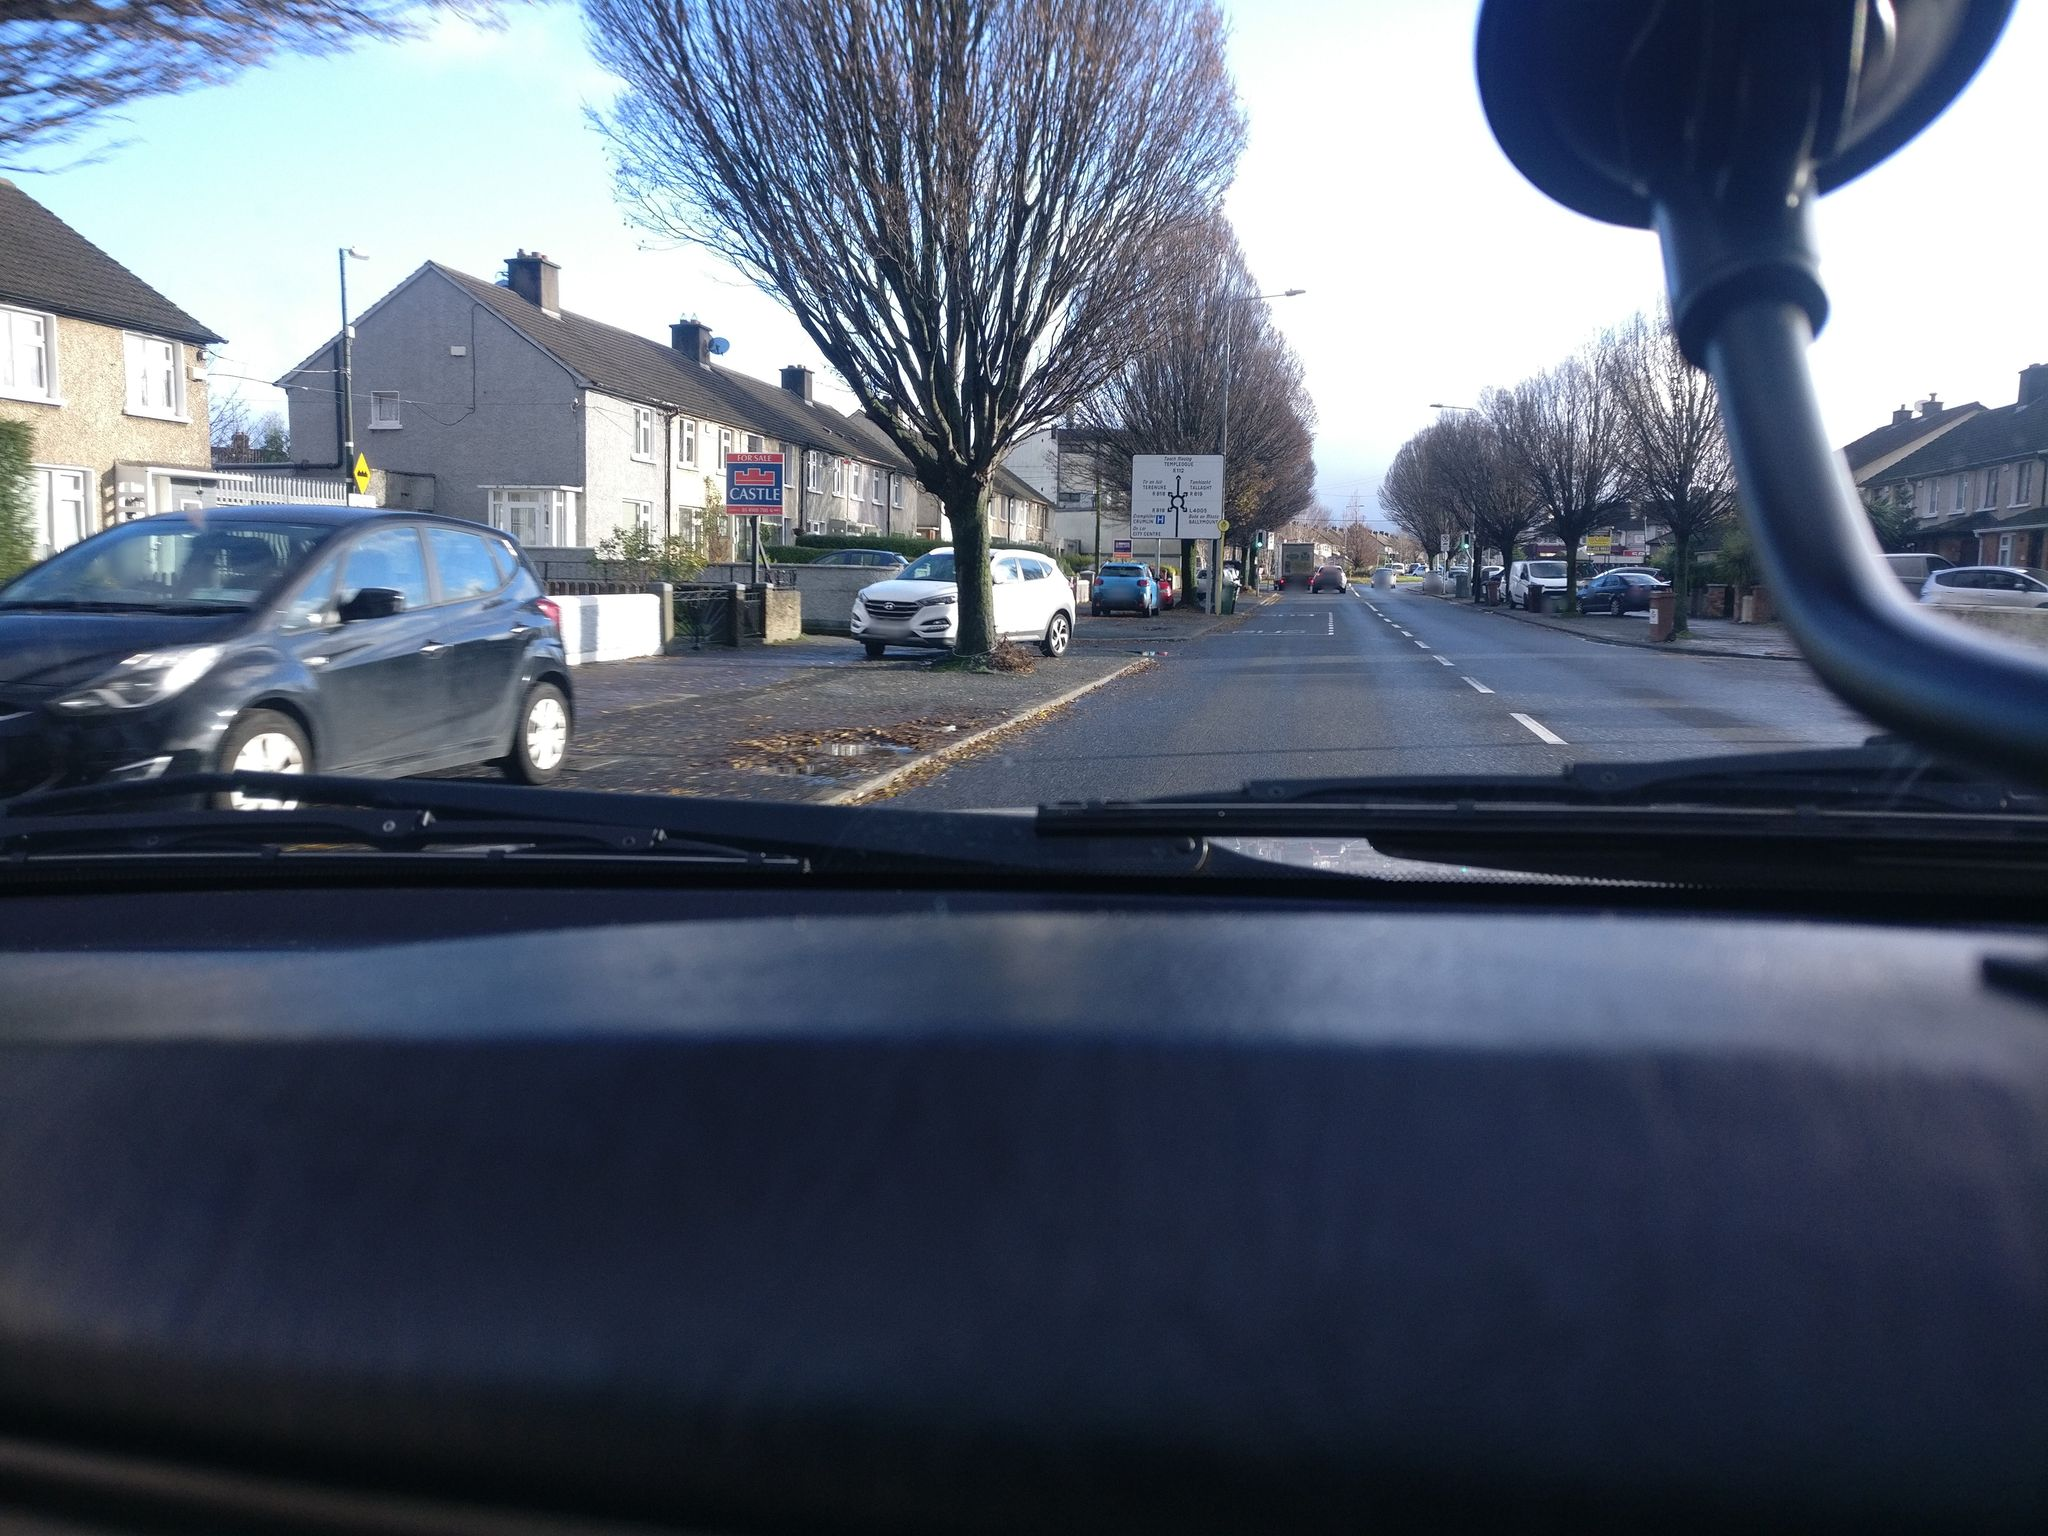property sign: (714, 434, 784, 529)
